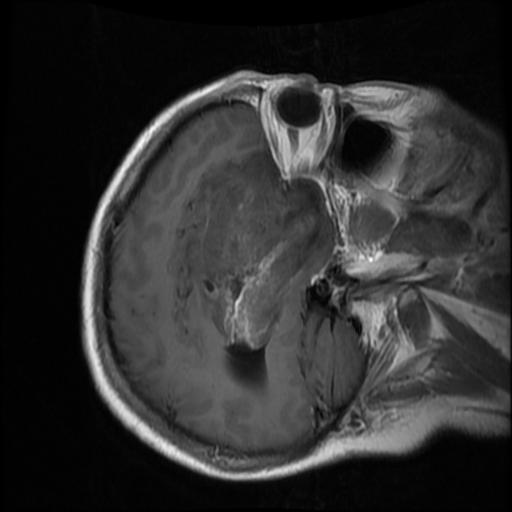glioma: (168, 153, 329, 349)
